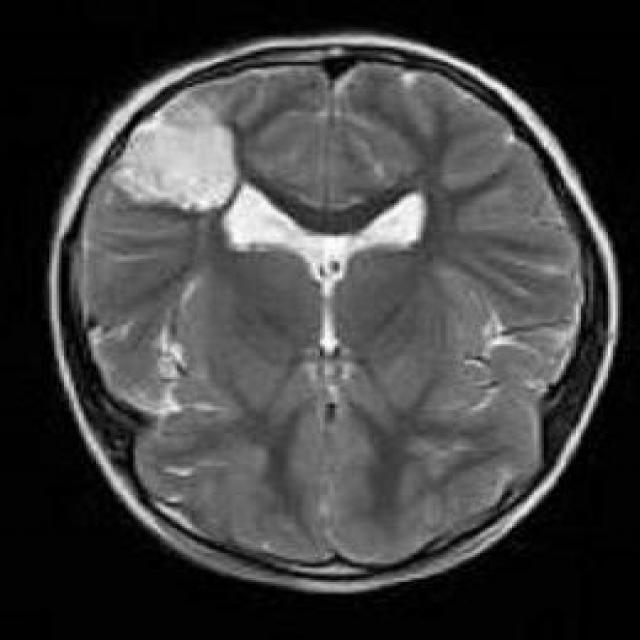Tumor: (103, 92, 246, 221)
